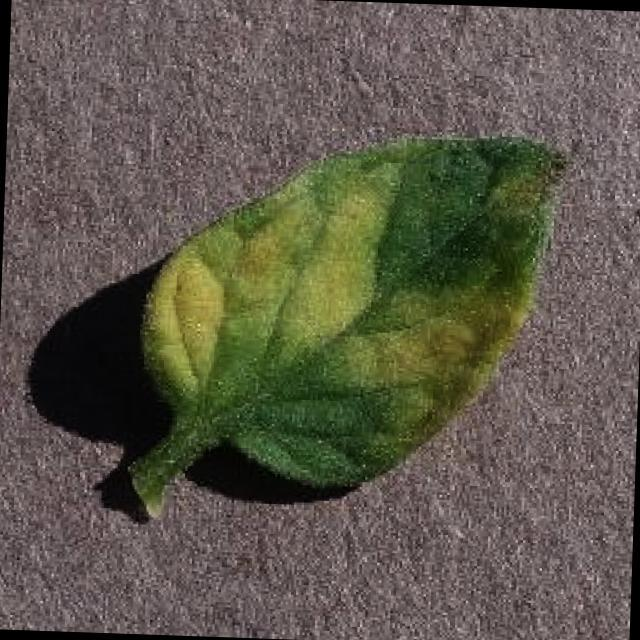Tomato mold leaf: (135, 118, 557, 502)
